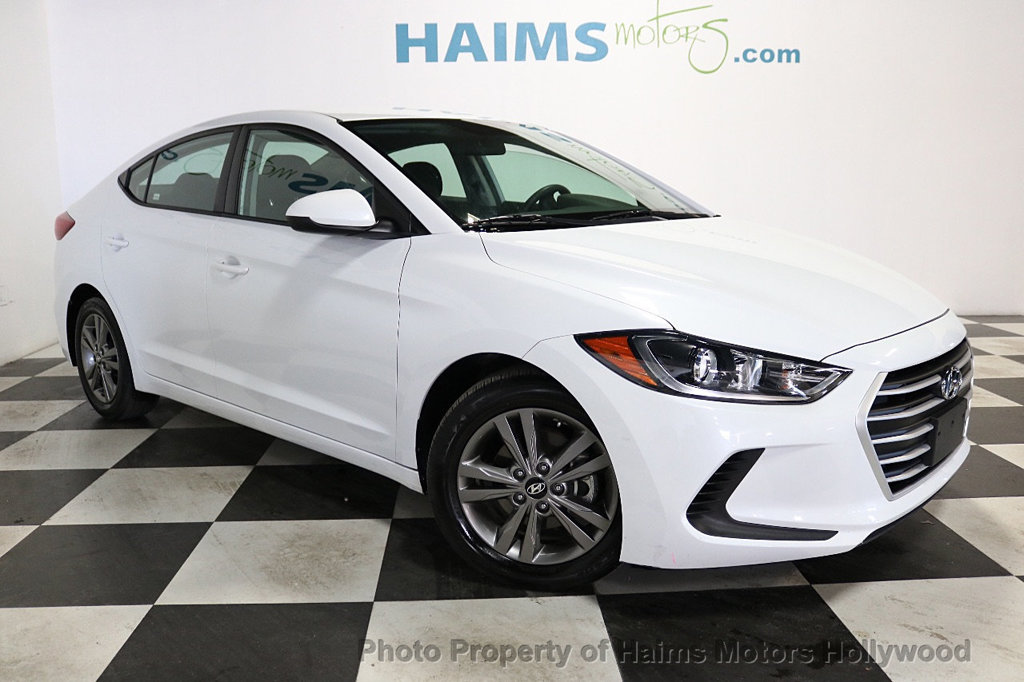elantra: (35, 94, 995, 611)
